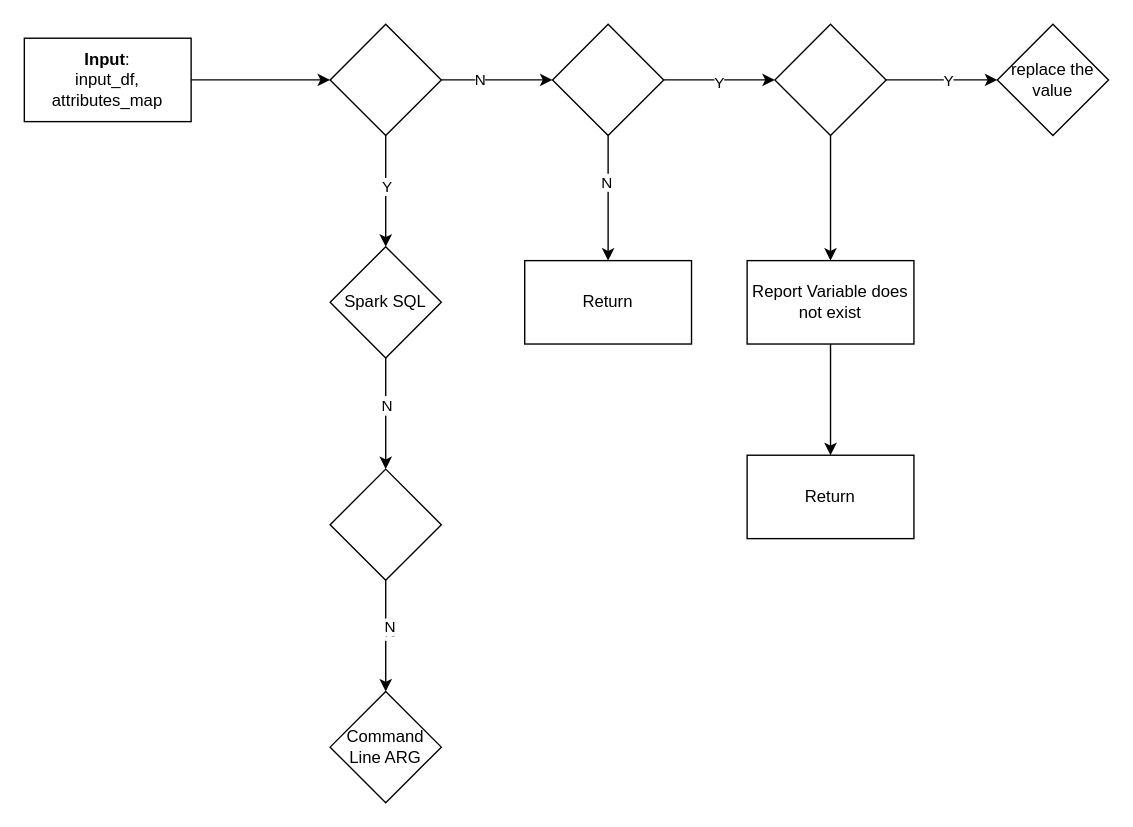
Image size: 1133x827. Some labels were removed from this diagram. The box of each missing label's shape, as (x1, y1, x2, y2) in pixels:
check if variable name exists: (774, 23, 886, 136)
check if {{}} exists in attribute_map value: (551, 23, 664, 136)
Define Variable: (329, 23, 441, 136)
Scala Code: (329, 468, 441, 580)
